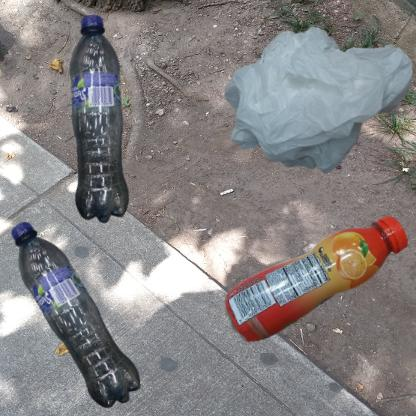bolsa: (213, 10, 416, 198)
botella: (10, 10, 225, 278), (213, 213, 416, 358), (10, 213, 146, 416)
